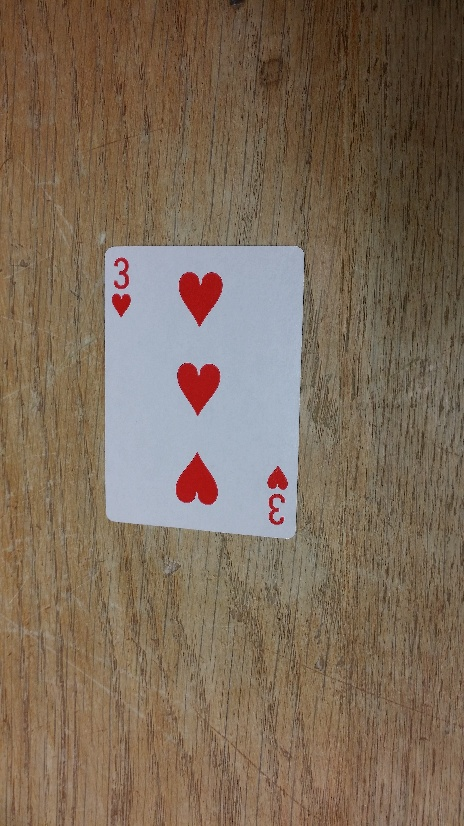H3: (260, 459, 292, 529), (109, 250, 137, 321)
